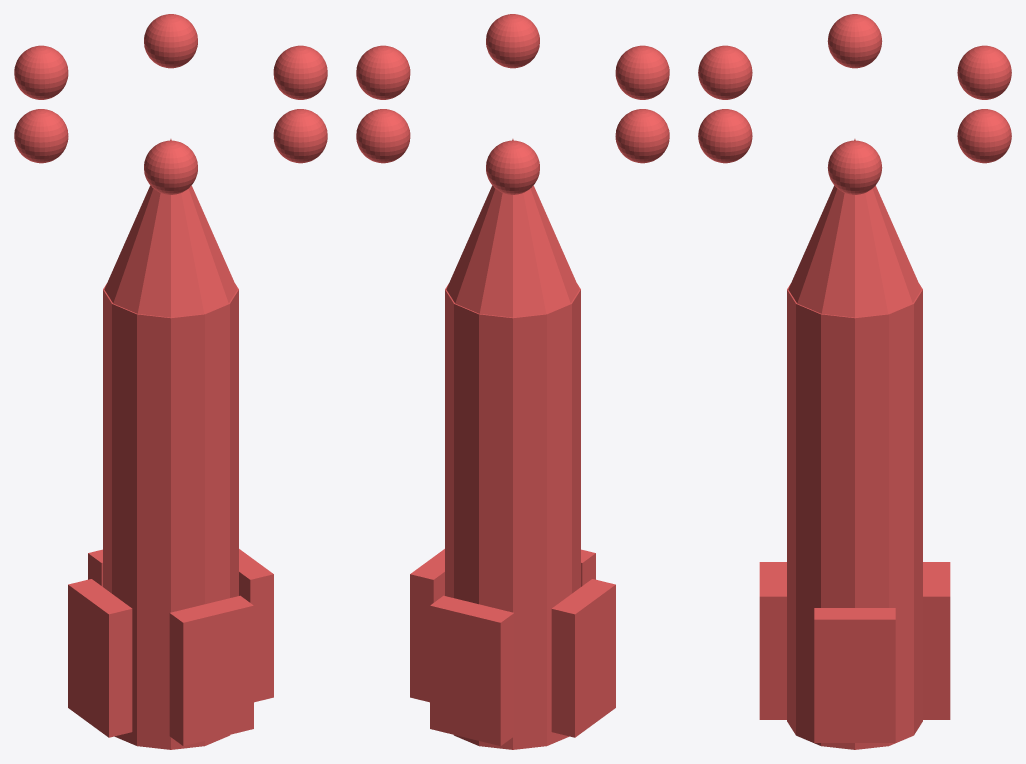
The model's file is Firework.fbx.
3 views of the same model, side by side, from view 1: azimuth 30°, elevation 25°; view 2: azimuth 150°, elevation 25°; view 3: azimuth 270°, elevation 25° (orthographic).
Visible parts, largest first — view 1: firework; view 2: firework; view 3: firework.
Boxes of the visible parts, left/top/right/bottom form: firework: left=14, top=14, right=327, bottom=749; firework: left=356, top=14, right=669, bottom=749; firework: left=698, top=14, right=1011, bottom=749.
Size of the model in its own units: 52 by 104 by 46.11.
